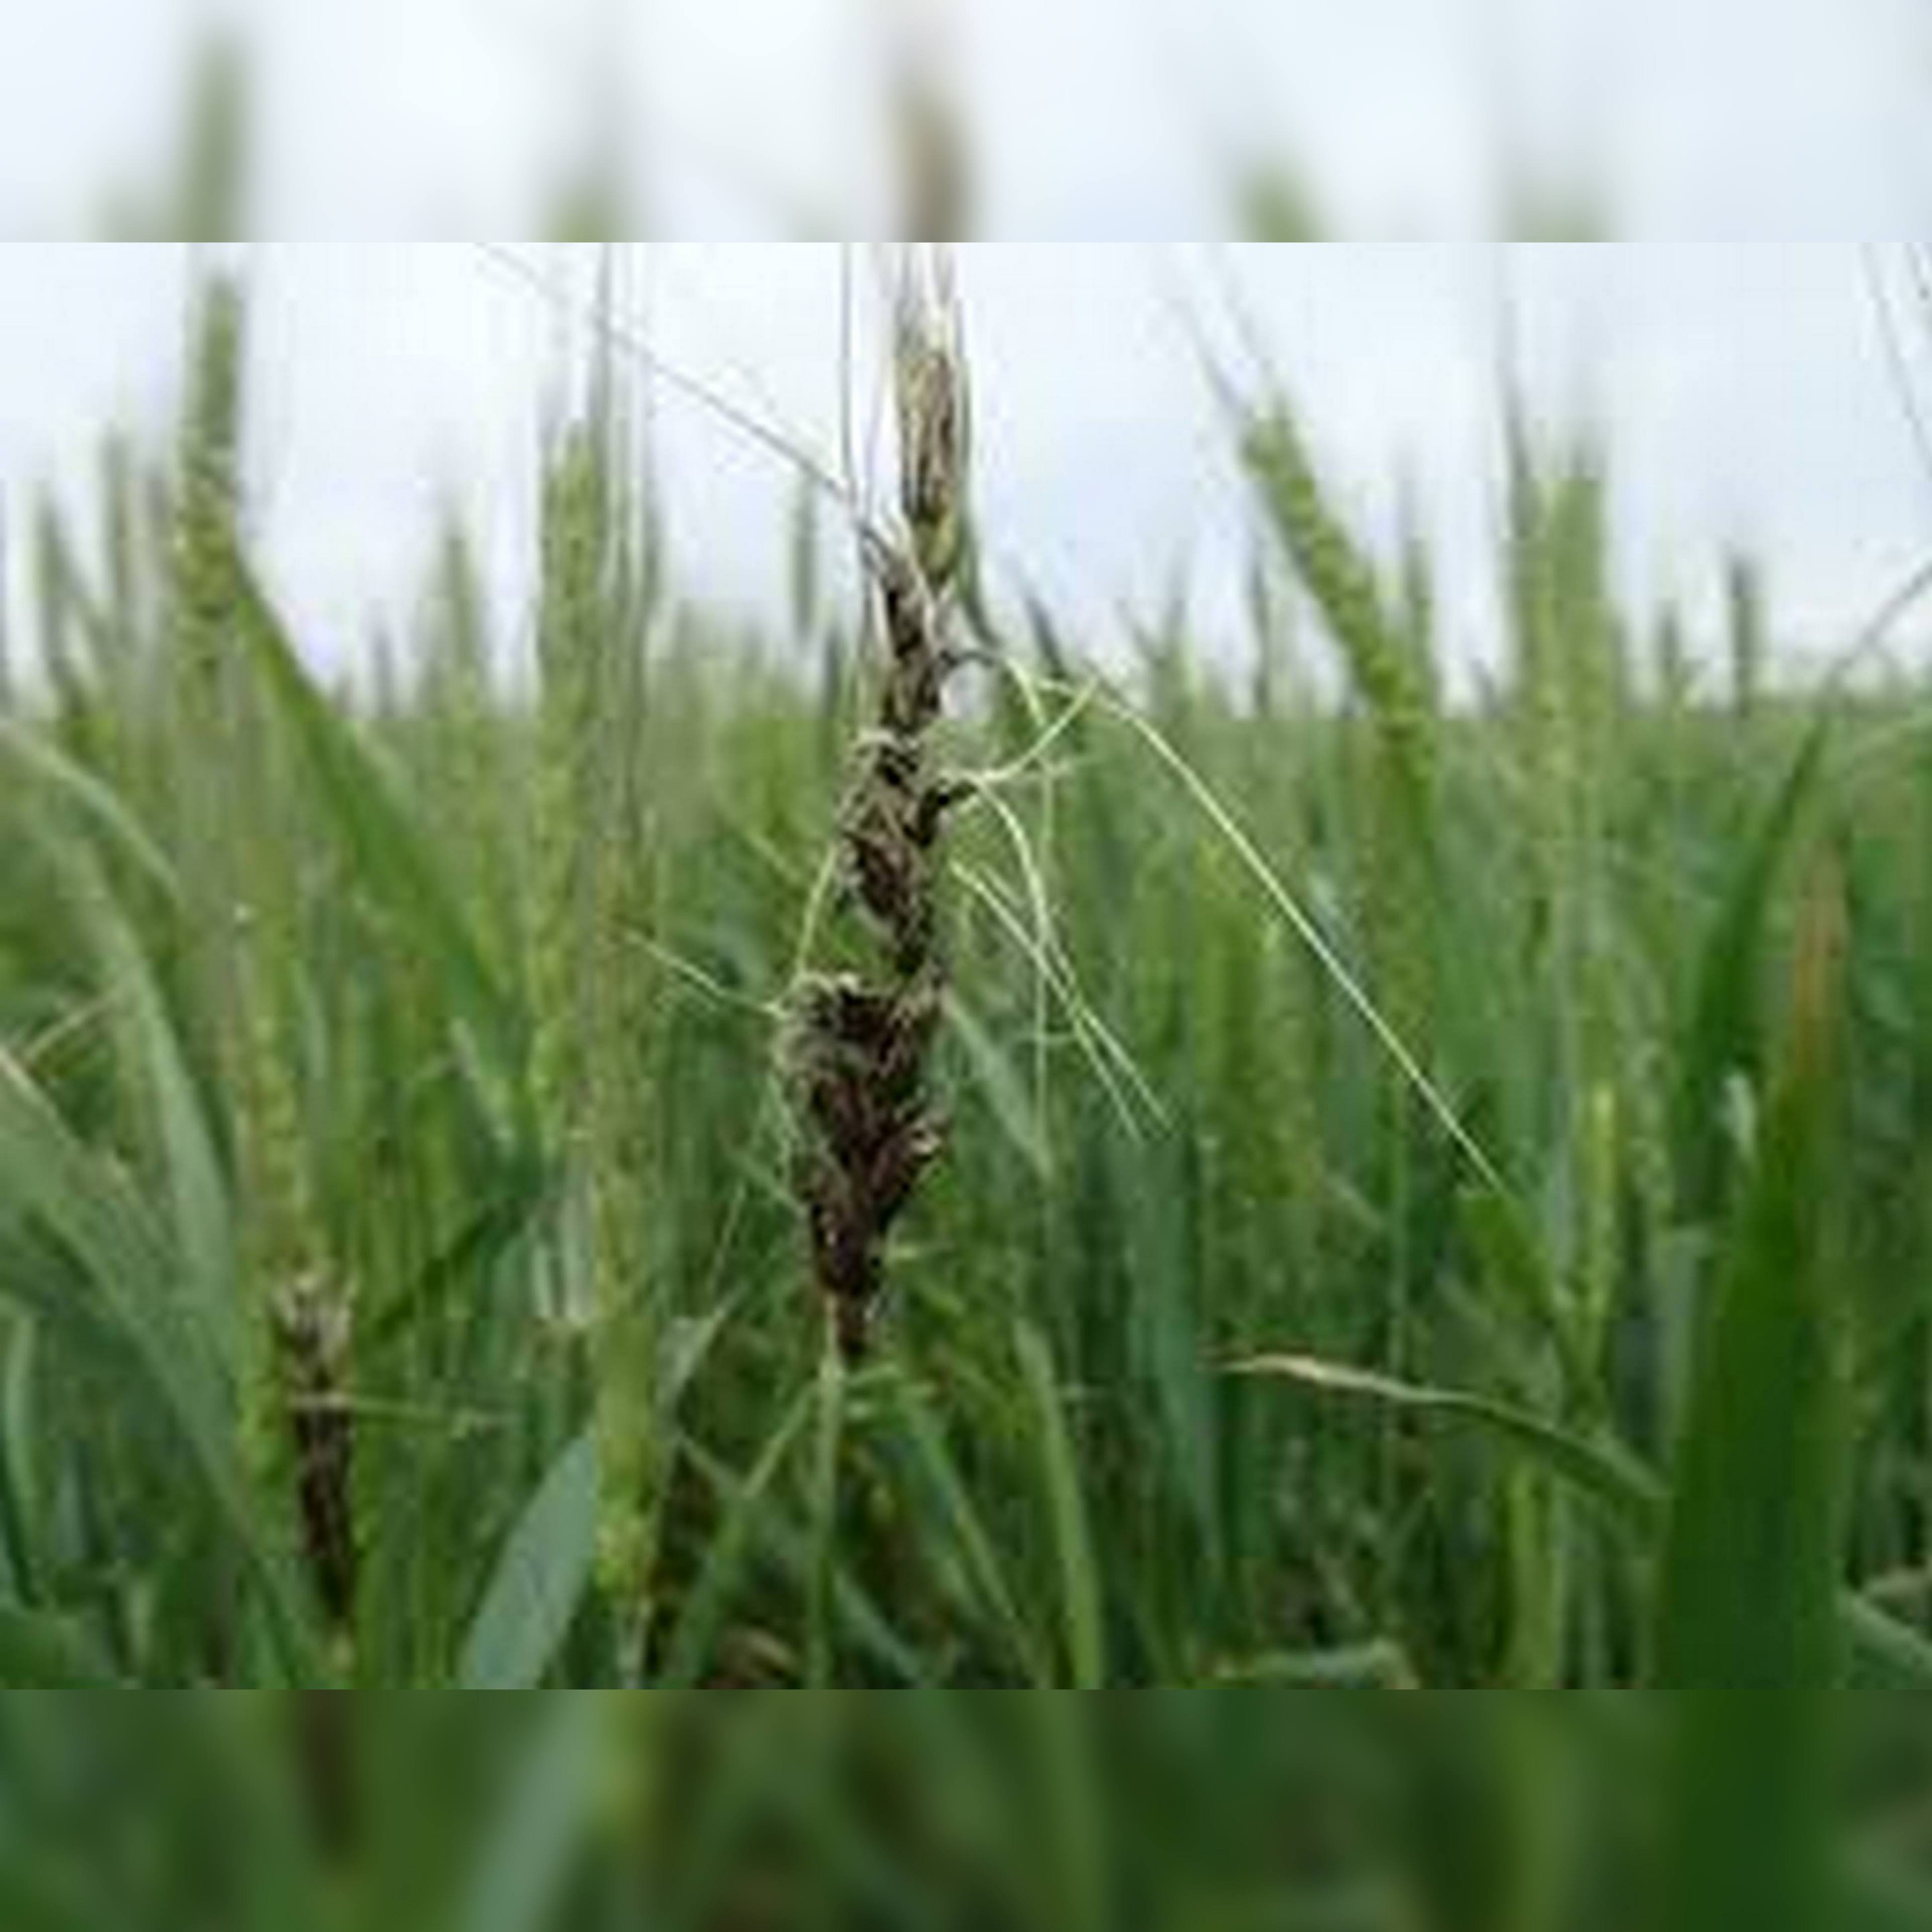Wheat Loose Smut: (768, 366, 1028, 1352)
